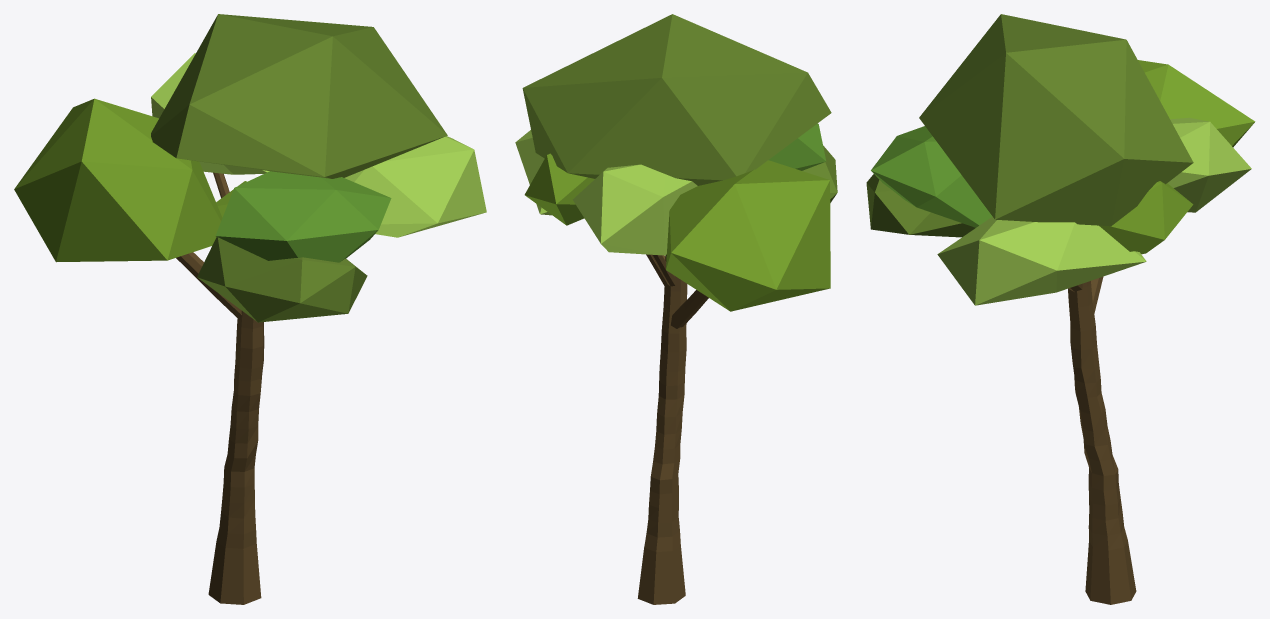
Rendered from Urwaldbaum2.fbx.
3 views of the same model, side by side, from view 1: azimuth 30°, elevation 25°; view 2: azimuth 150°, elevation 25°; view 3: azimuth 270°, elevation 25° (orthographic). The views are drawn at different scales.
Visible parts, largest first — view 1: Platonischer_Körper_8, Kegel_4; view 2: Platonischer_Körper_8, Kegel_4; view 3: Platonischer_Körper_8, Kegel_4.
Boxes of the visible parts, box(x1,y1,x2,y2) form: Platonischer_Körper_8: box(14, 14, 486, 322); Kegel_4: box(176, 172, 264, 604); Platonischer_Körper_8: box(515, 14, 837, 311); Kegel_4: box(637, 254, 708, 604); Platonischer_Körper_8: box(866, 14, 1255, 305); Kegel_4: box(1068, 276, 1136, 604).
Size of the model in its own units: 1771 by 2678 by 1684.
